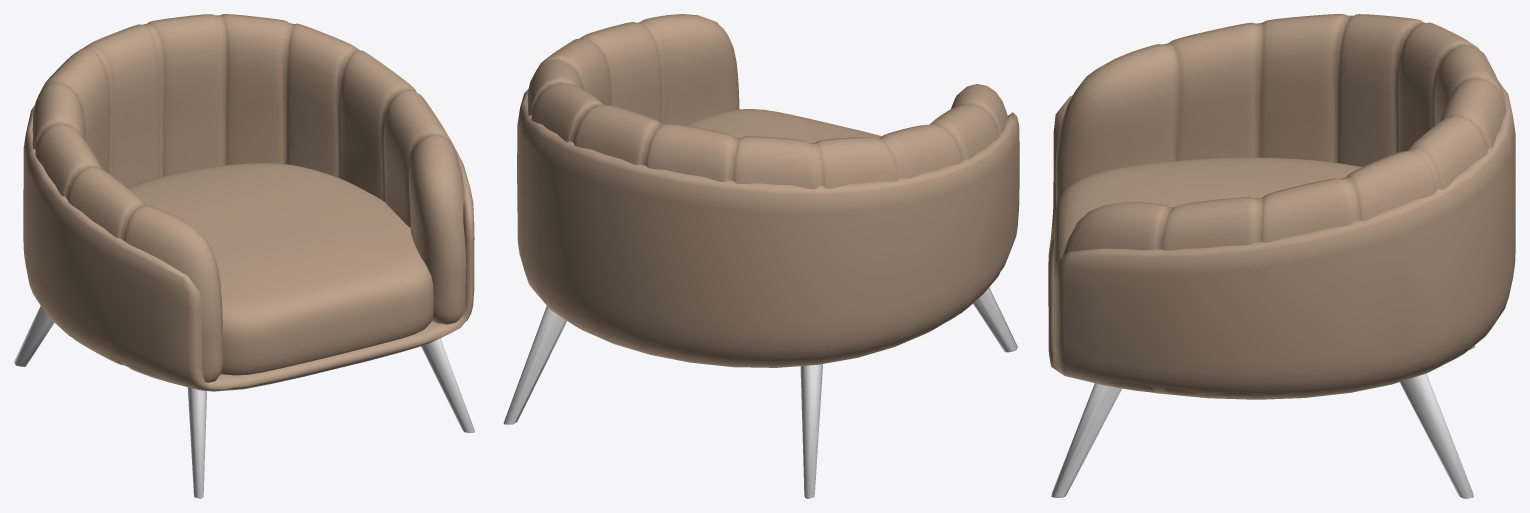
The model's file is chair_1.glb.
The picture shows the model from 3 angles, left to right: view 1: azimuth 30°, elevation 25°; view 2: azimuth 150°, elevation 25°; view 3: azimuth 270°, elevation 25°; orthographic projection. The views are drawn at different scales.
Parts seen in each view (by area): view 1: Cube001, Cube002, Cube, Cylinder; view 2: Cube, Cube001, Cylinder, Cube002; view 3: Cube001, Cube, Cube002, Cylinder.
Part boxes in pixels (x1=…): Cube001: x1=32, y1=14, x2=466, y2=383; Cube002: x1=127, y1=163, x2=433, y2=375; Cube: x1=23, y1=105, x2=474, y2=391; Cylinder: x1=14, y1=306, x2=474, y2=498; Cube: x1=517, y1=89, x2=1019, y2=367; Cube001: x1=527, y1=14, x2=1007, y2=358; Cylinder: x1=503, y1=287, x2=1017, y2=498; Cube002: x1=685, y1=109, x2=881, y2=143; Cube001: x1=1055, y1=14, x2=1506, y2=398; Cube: x1=1048, y1=81, x2=1515, y2=399; Cube002: x1=1054, y1=157, x2=1361, y2=276; Cylinder: x1=1051, y1=345, x2=1475, y2=498.
Bounding box in the file's own units: 1.01 × 0.7933 × 0.9707.
